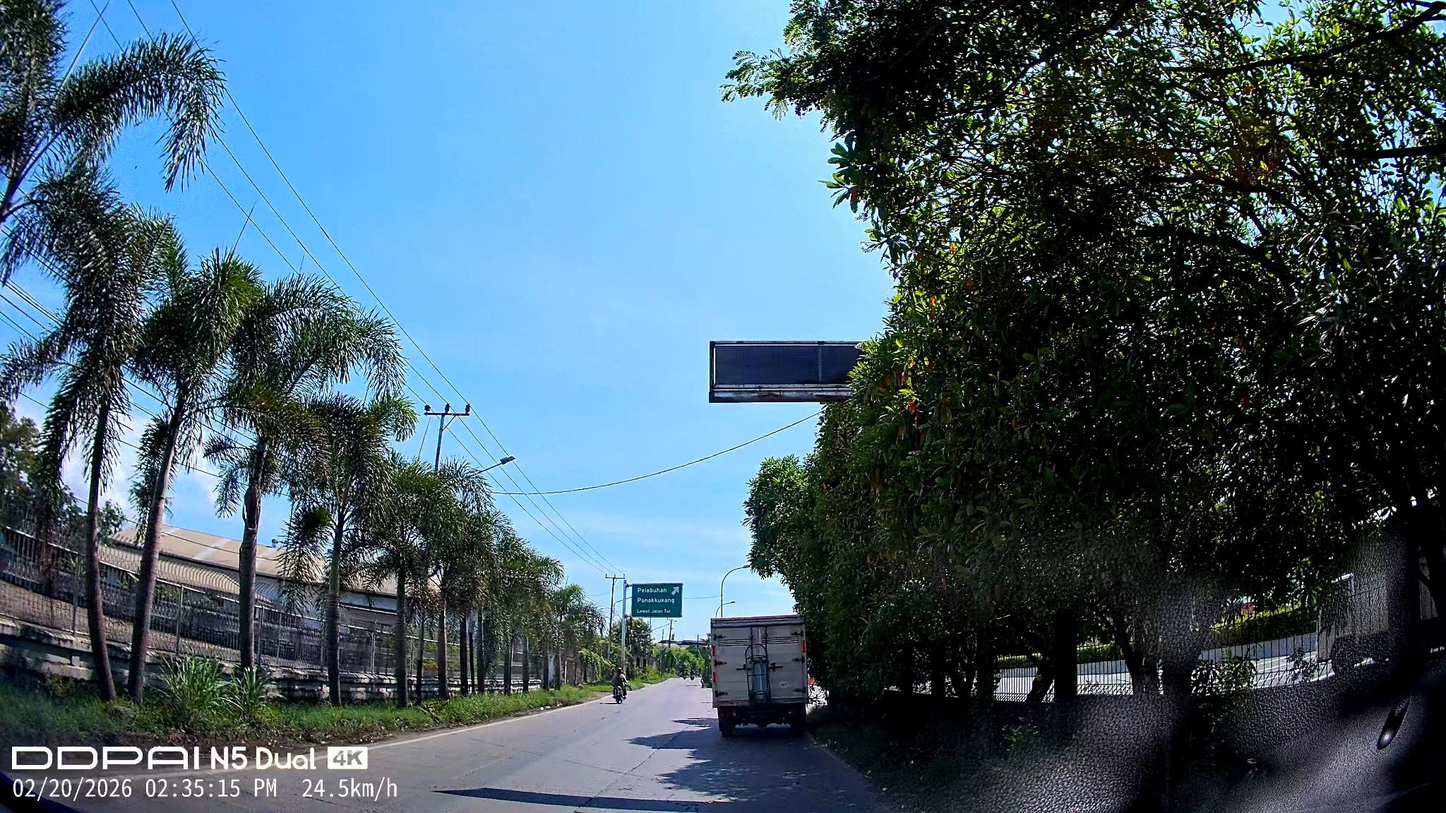rambu_teks: (630, 582, 683, 619)
